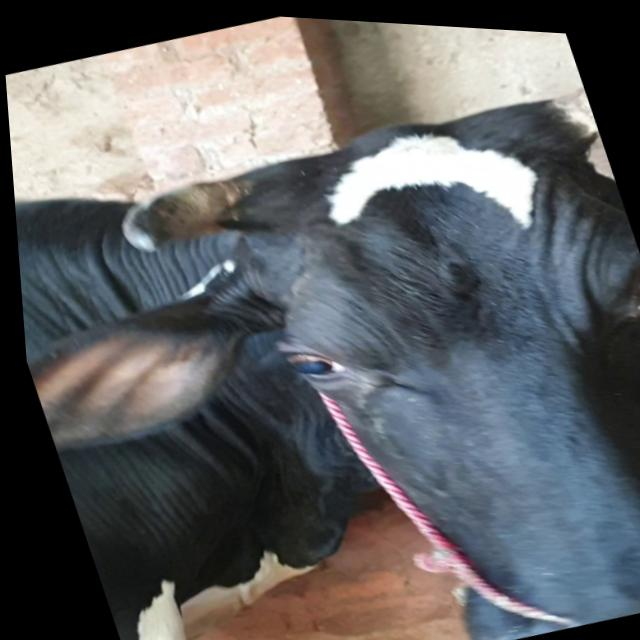cowFace: (213, 62, 640, 640)
